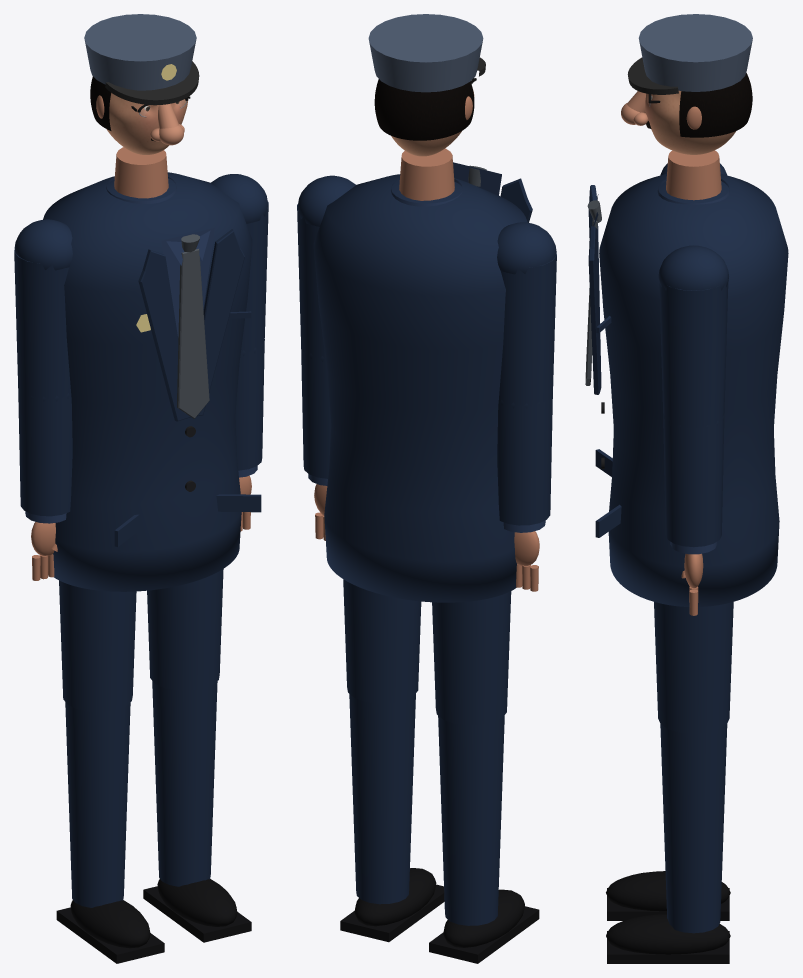
Rendered from Officer.glb.
The picture shows the model from 3 angles, left to right: view 1: azimuth 30°, elevation 25°; view 2: azimuth 150°, elevation 25°; view 3: azimuth 270°, elevation 25°; orthographic projection. The views are drawn at different scales.
Parts seen in each view (by area): view 1: J_spine, J_head, J_kneeL, J_kneeR, J_shR, J_thighR, J_thighL, J_elR, J_ankleL, J_ankleR, J_shL, J_elL (+2 smaller); view 2: J_spine, J_head, J_kneeL, J_kneeR, J_shR, J_thighR, J_thighL, J_elR, J_shL, J_ankleR, J_ankleL, J_elL (+2 smaller); view 3: J_spine, J_head, J_kneeL, J_shL, J_thighL, J_elL, J_ankleL, J_ankleR, J_neck, J_wrL.
Part boxes in pixels (left/top/right/bottom): J_spine: left=43, top=172, right=261, bottom=591; J_head: left=84, top=14, right=199, bottom=154; J_kneeL: left=152, top=681, right=217, bottom=886; J_kneeR: left=65, top=702, right=130, bottom=907; J_shR: left=14, top=219, right=72, bottom=398; J_thighR: left=59, top=580, right=136, bottom=711; J_thighL: left=147, top=569, right=223, bottom=690; J_elR: left=18, top=387, right=72, bottom=523; J_ankleL: left=143, top=879, right=251, bottom=942; J_ankleR: left=56, top=900, right=164, bottom=963; J_shL: left=211, top=174, right=268, bottom=352; J_elL: left=235, top=339, right=264, bottom=477; J_spine: left=313, top=162, right=532, bottom=602; J_head: left=368, top=14, right=485, bottom=156; J_kneeL: left=349, top=694, right=415, bottom=904; J_kneeR: left=438, top=715, right=504, bottom=925; J_shR: left=497, top=222, right=556, bottom=405; J_thighR: left=432, top=591, right=511, bottom=725; J_thighL: left=343, top=579, right=421, bottom=703; J_elR: left=497, top=395, right=552, bottom=532; J_shL: left=297, top=175, right=355, bottom=358; J_ankleR: left=429, top=889, right=539, bottom=963; J_ankleL: left=340, top=868, right=444, bottom=942; J_elL: left=301, top=344, right=330, bottom=485; J_spine: left=585, top=173, right=788, bottom=606; J_head: left=621, top=14, right=752, bottom=154; J_kneeL: left=660, top=724, right=727, bottom=933; J_shL: left=658, top=245, right=728, bottom=427; J_thighL: left=654, top=602, right=733, bottom=733; J_elL: left=663, top=415, right=724, bottom=554; J_ankleL: left=606, top=914, right=730, bottom=963; J_ankleR: left=606, top=871, right=730, bottom=920; J_neck: left=666, top=150, right=721, bottom=200; J_wrL: left=684, top=553, right=703, bottom=588.
Size of the model in its own units: 0.566 by 1.93 by 0.398.
25 materials, 3 textured.
